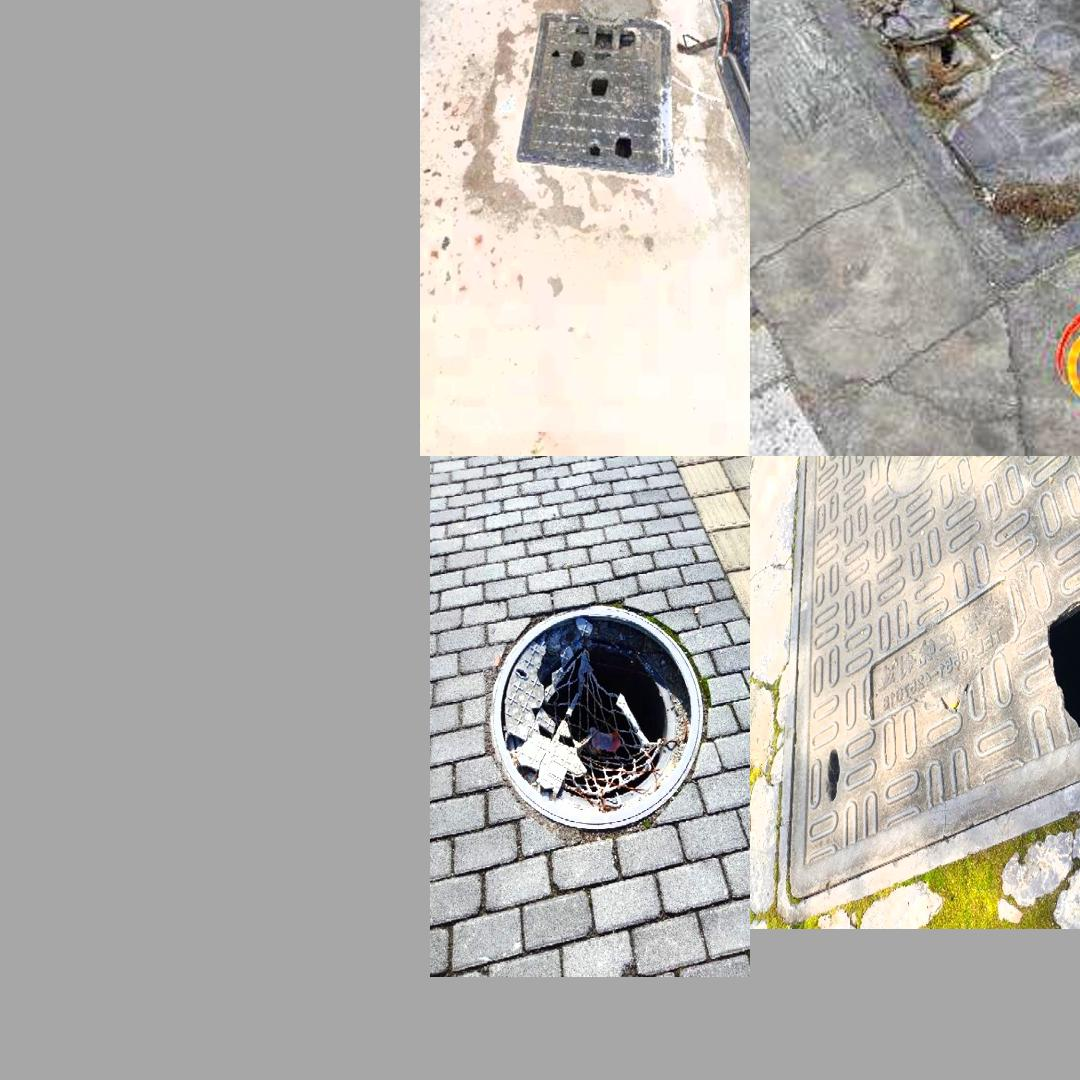broke: (776, 471, 1080, 868), (791, 0, 1080, 277), (478, 588, 720, 846), (516, 10, 676, 182)
